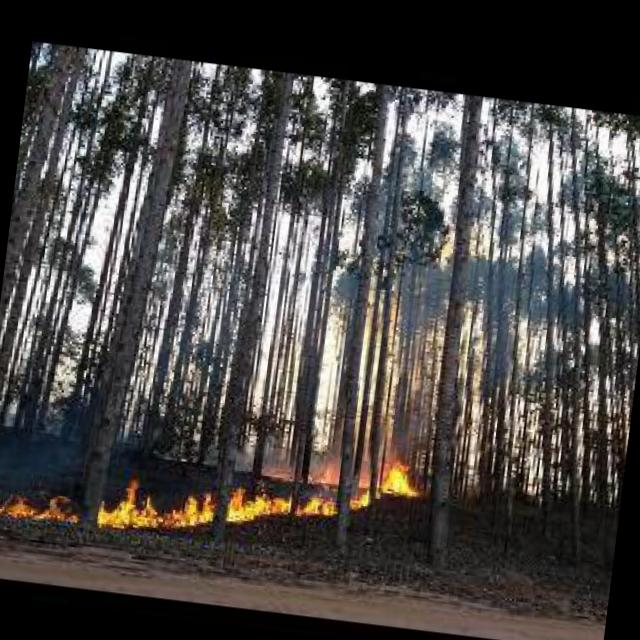fire: (0, 405, 429, 571)
